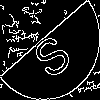S: (25, 25, 75, 82)
